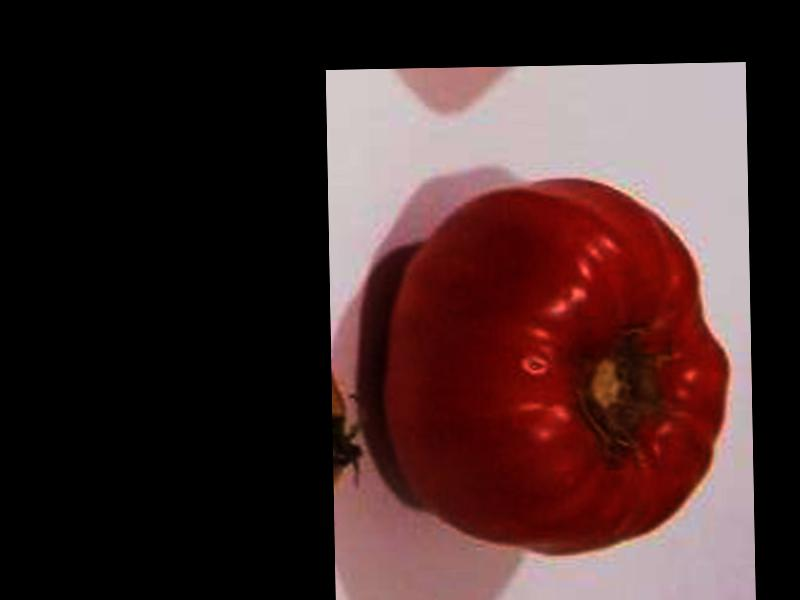Tomato: (384, 180, 729, 556)
